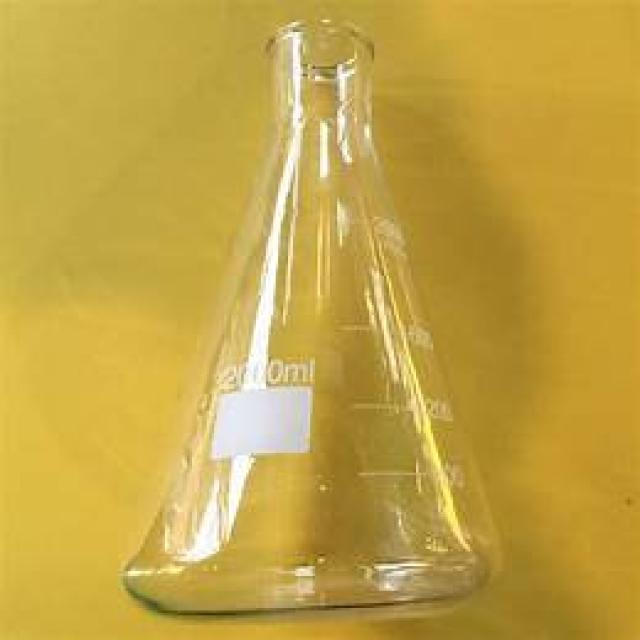Titrarion: (123, 25, 513, 609)
